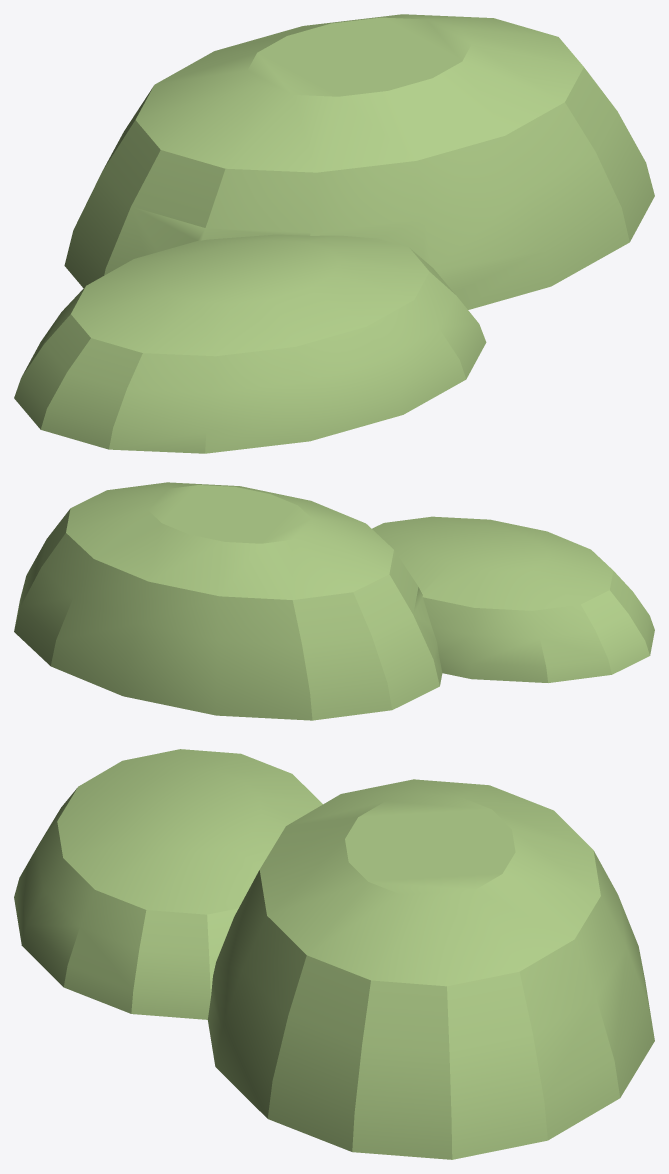
Rendered from erbacoll.fbx.
The picture shows the model from 3 angles, top to bottom: view 1: azimuth 30°, elevation 25°; view 2: azimuth 150°, elevation 25°; view 3: azimuth 270°, elevation 25°; orthographic projection. The views are drawn at different scales.
Parts seen in each view (by area): view 1: Hill_Grass_01; view 2: Hill_Grass_01; view 3: Hill_Grass_01.
Boxes of the visible parts, box(x1,y1,x2,y2) form: Hill_Grass_01: box(14, 14, 654, 453); Hill_Grass_01: box(14, 482, 654, 720); Hill_Grass_01: box(14, 749, 654, 1159).
Size of the model in its own units: 3891 by 903 by 2947.
